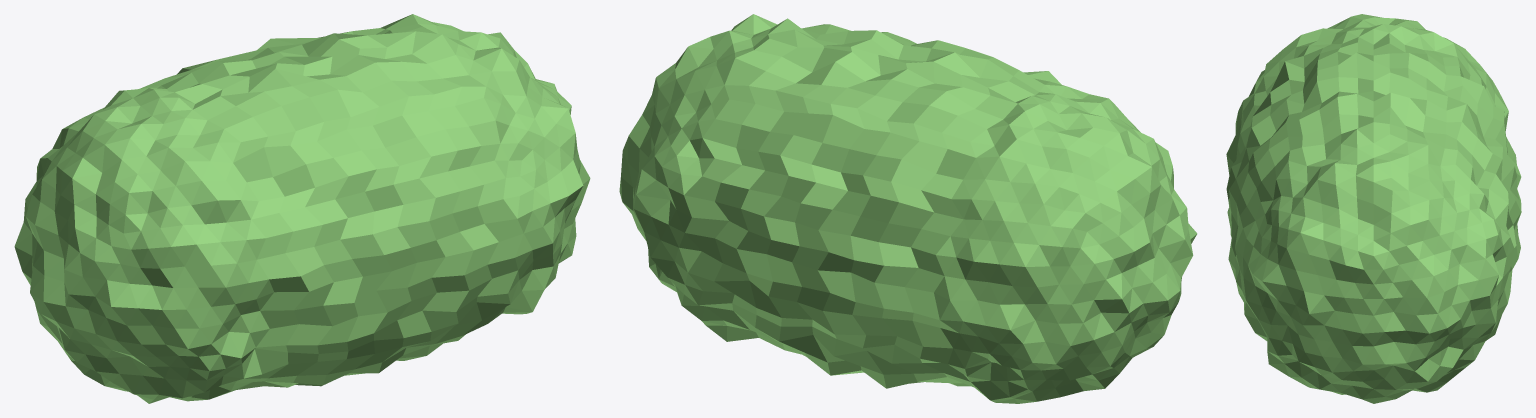
The model's file is another_grass.fbx.
3 views of the same model, side by side, from view 1: azimuth 30°, elevation 25°; view 2: azimuth 150°, elevation 25°; view 3: azimuth 270°, elevation 25° (orthographic). The views are drawn at different scales.
Parts seen in each view (by area): view 1: Icosphere; view 2: Icosphere; view 3: Icosphere.
Part boxes in pixels (x1,y1,x2,y2): Icosphere: (14,14,590,403); Icosphere: (619,14,1197,403); Icosphere: (1226,14,1521,403).
Size of the model in its own units: 387 by 223 by 217.
